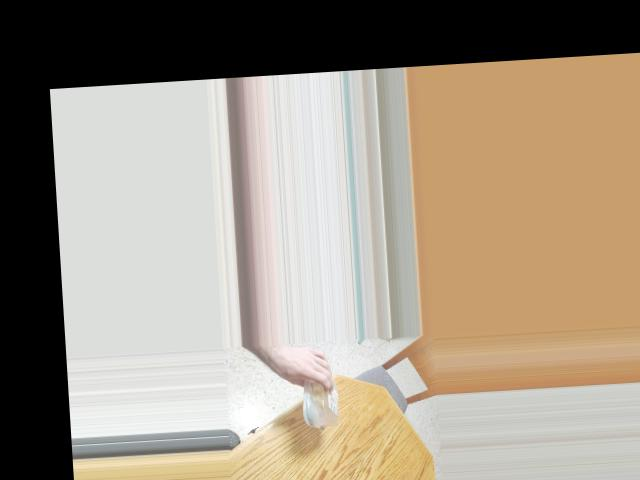cheese: (287, 365, 349, 435)
